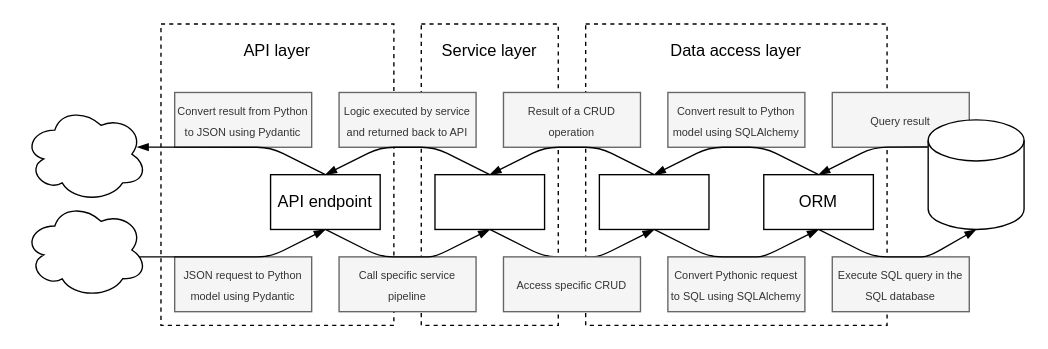
Some shapes in this 1048 by 349 pixel diagram are drawn without their labels. Each missing label, with the centre of its shape:
"CRUD" belongs at pixel 653 201.
"Database" belongs at pixel 975 174.
"Request" belongs at pixel 85 249.
"Response" belongs at pixel 85 153.
"Service" belongs at pixel 489 201.
